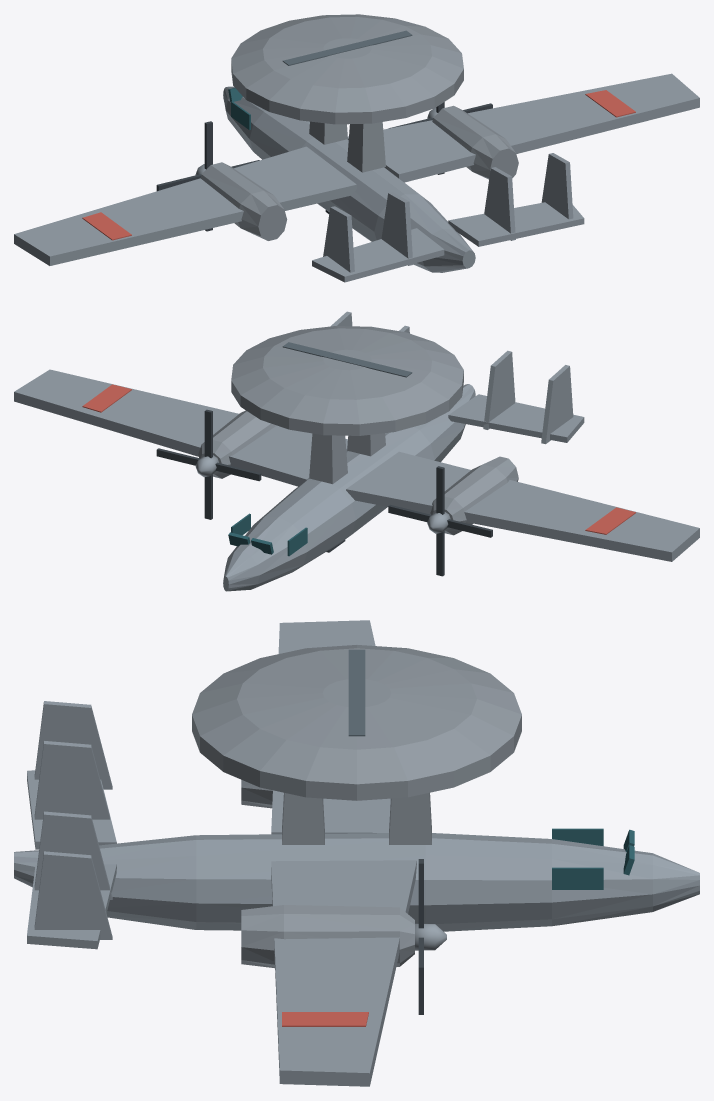
The model's file is EnemyRecon.fbx.
The picture shows the model from 3 angles, top to bottom: view 1: azimuth 30°, elevation 25°; view 2: azimuth 150°, elevation 25°; view 3: azimuth 270°, elevation 25°; orthographic projection. The views are drawn at different scales.
Parts seen in each view (by area): view 1: EnemyRecon_Visual, RadomePivot_Visual, PortTurbopropNacelle, StarboardTurbopropNacelle, Propeller_Port_Visual; view 2: EnemyRecon_Visual, RadomePivot_Visual, PortTurbopropNacelle, Propeller_Starboard_Visual, Propeller_Port_Visual, StarboardTurbopropNacelle; view 3: EnemyRecon_Visual, RadomePivot_Visual, StarboardTurbopropNacelle, Propeller_Starboard_Visual.
Boxes of the visible parts, x1,y1,x2,y2 form: EnemyRecon_Visual: [14, 73, 699, 282]; RadomePivot_Visual: [231, 14, 463, 124]; PortTurbopropNacelle: [200, 162, 287, 240]; StarboardTurbopropNacelle: [432, 105, 518, 179]; Propeller_Port_Visual: [156, 121, 259, 231]; EnemyRecon_Visual: [14, 311, 699, 591]; RadomePivot_Visual: [231, 326, 463, 435]; PortTurbopropNacelle: [430, 456, 518, 535]; Propeller_Starboard_Visual: [156, 409, 261, 519]; Propeller_Port_Visual: [388, 466, 492, 576]; StarboardTurbopropNacelle: [198, 410, 276, 478]; EnemyRecon_Visual: [14, 620, 699, 1086]; RadomePivot_Visual: [192, 645, 521, 800]; StarboardTurbopropNacelle: [241, 905, 414, 968]; Propeller_Starboard_Visual: [415, 859, 446, 1014].
Bounding box in the file's own units: 500 × 129 × 320.
